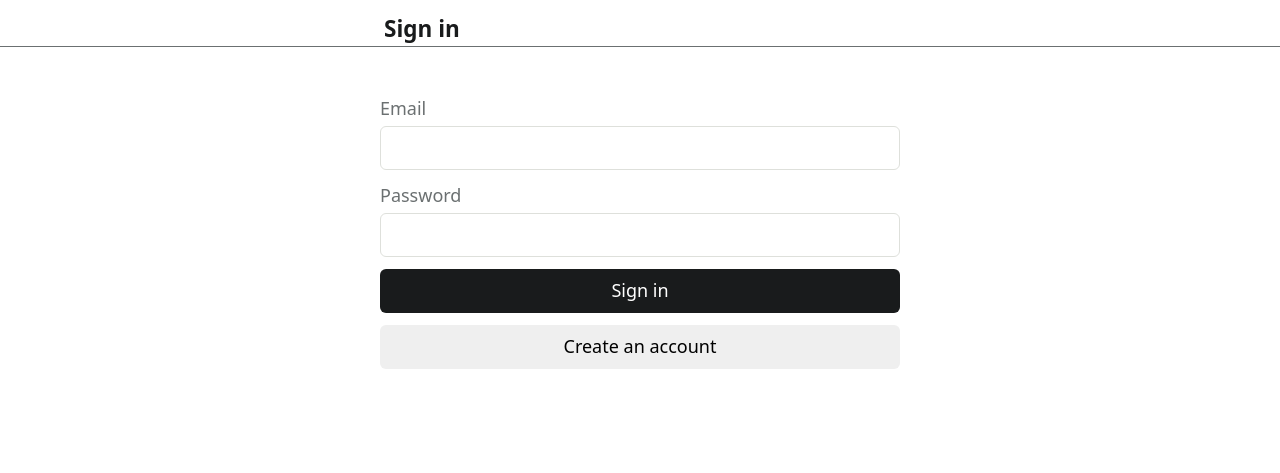
Test: SignInView › signs a new user up (bootstrap) and lands on the lists index
The image size is (1280, 473).
Click the button "Create an account". click: point(640, 347)
box: [380,325,900,369]
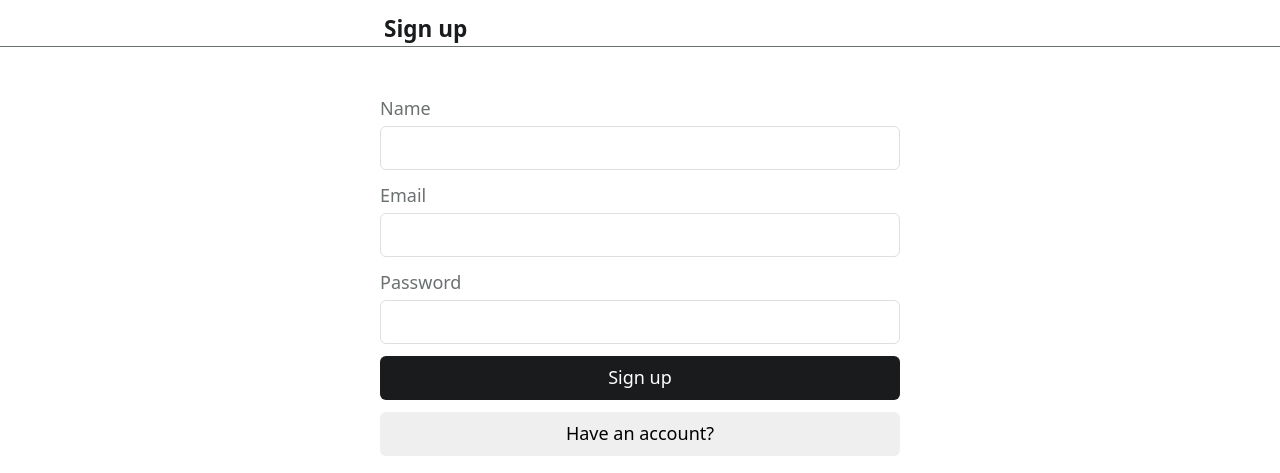
Type "Test User" into the field named "name". click: point(640, 148)
box: [380,126,900,170]
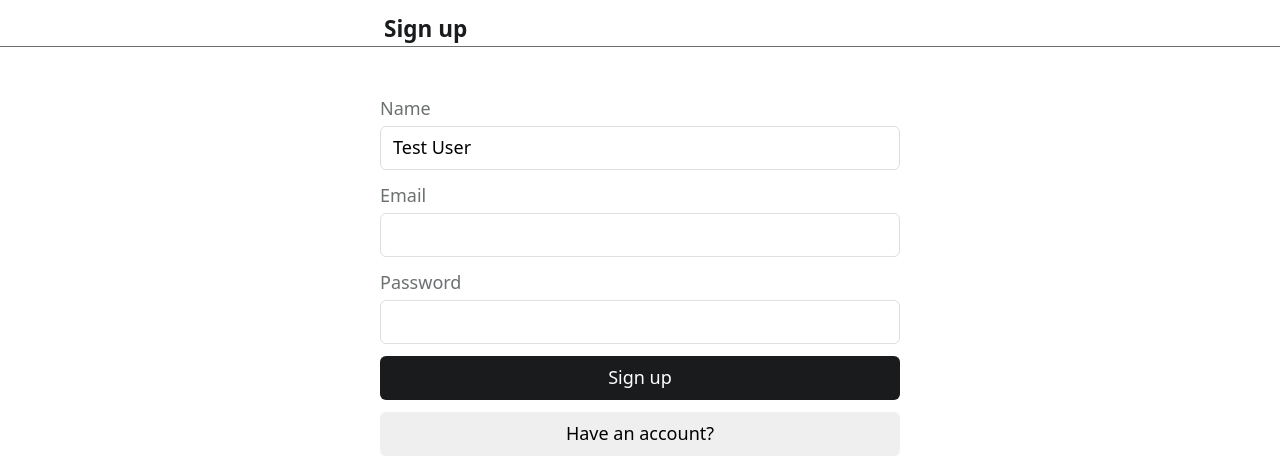
Type "[EMAIL]" into the field named "email". click: point(640, 235)
box: [380,213,900,257]
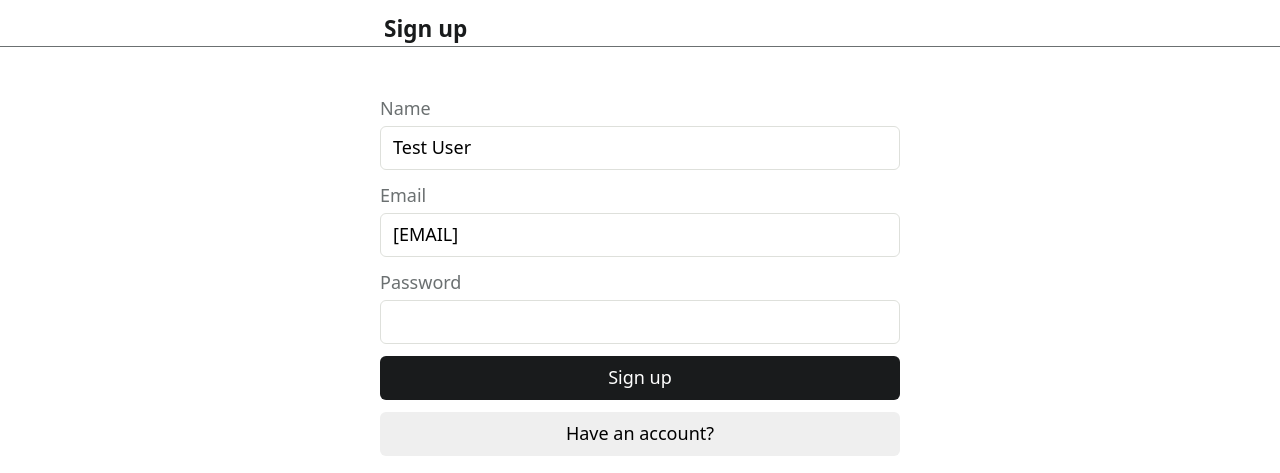
Type "password123" into the password field named "password". click: point(640, 322)
box: [380,300,900,344]
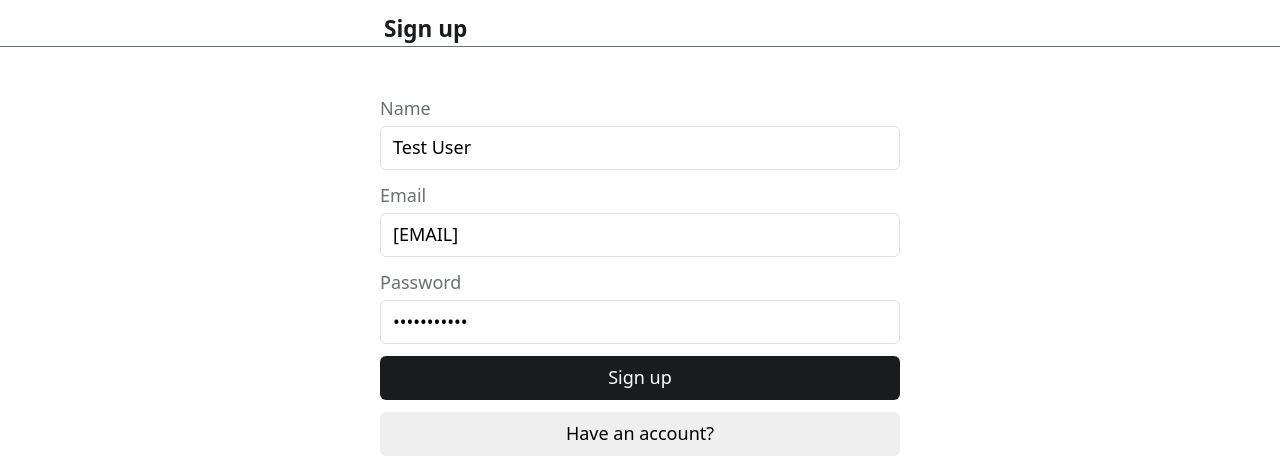
Submit the form, box [380,95,900,400]
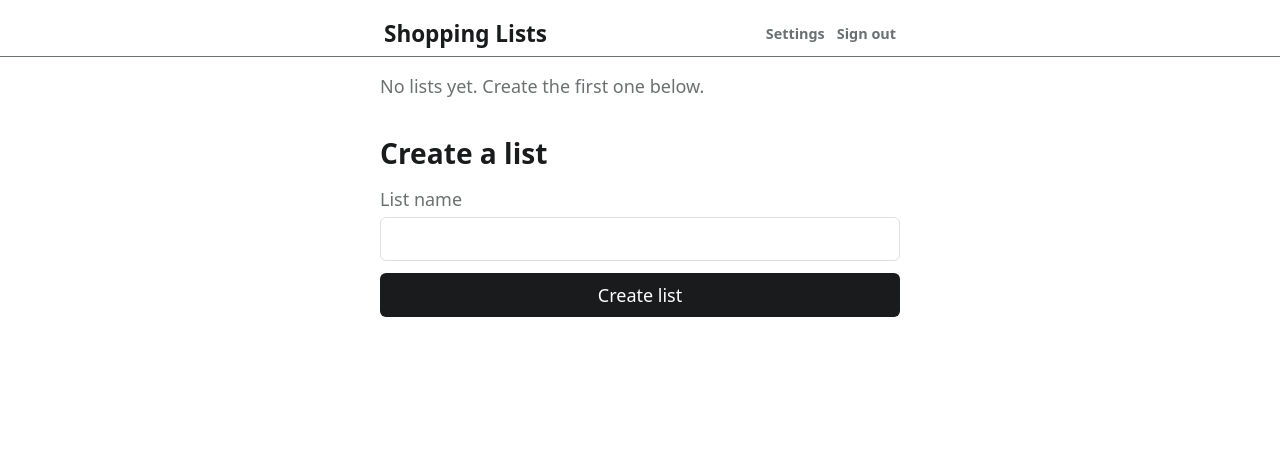
Now the text "Sign out" is shown, box [837,12,896,56]
